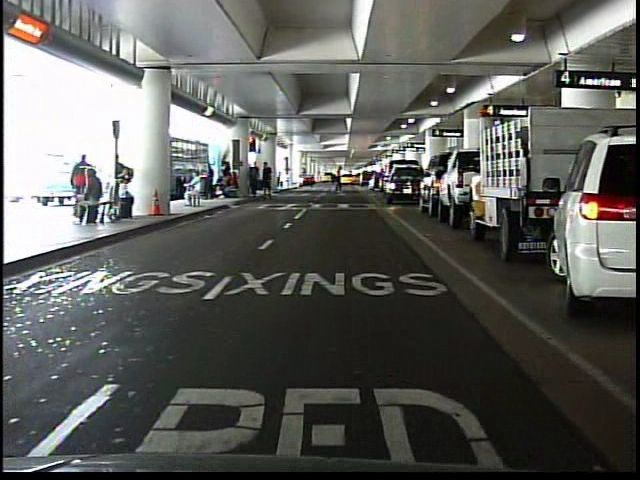person: (181, 171, 207, 208), (326, 162, 348, 195)
